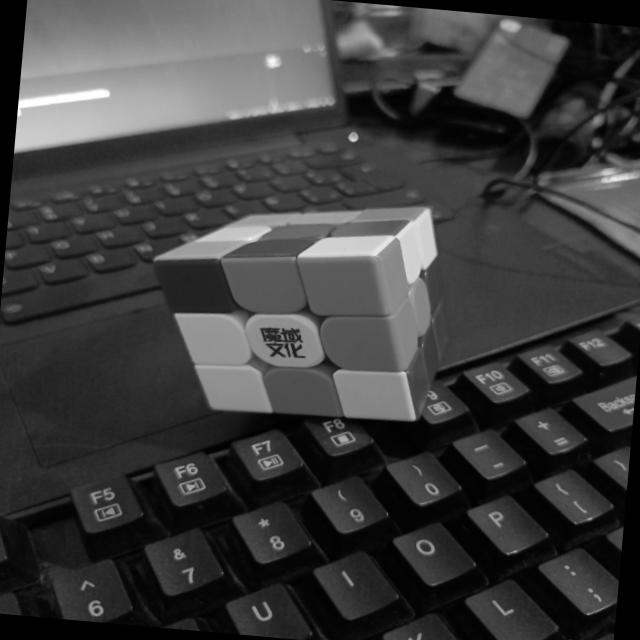rubik: (138, 181, 460, 430)
